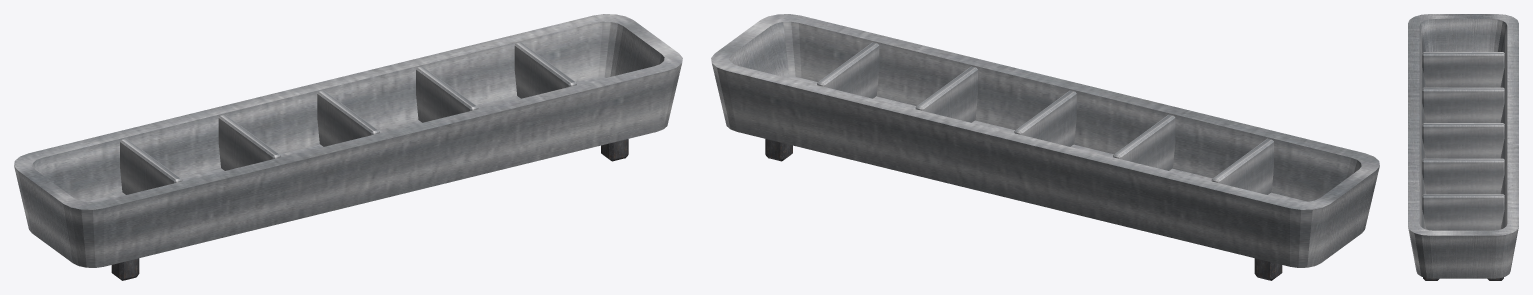
The model's file is CoopCozy_Trough.fbx.
The picture shows the model from 3 angles, left to right: view 1: azimuth 30°, elevation 25°; view 2: azimuth 150°, elevation 25°; view 3: azimuth 270°, elevation 25°; orthographic projection. The views are drawn at different scales.
Parts seen in each view (by area): view 1: CoopCozy_Trough; view 2: CoopCozy_Trough; view 3: CoopCozy_Trough.
Boxes of the visible parts, x1,y1,x2,y2 form: CoopCozy_Trough: (14, 14, 682, 280); CoopCozy_Trough: (711, 14, 1379, 280); CoopCozy_Trough: (1408, 14, 1518, 280).
Size of the model in its own units: 3.12 by 0.435 by 0.66.
